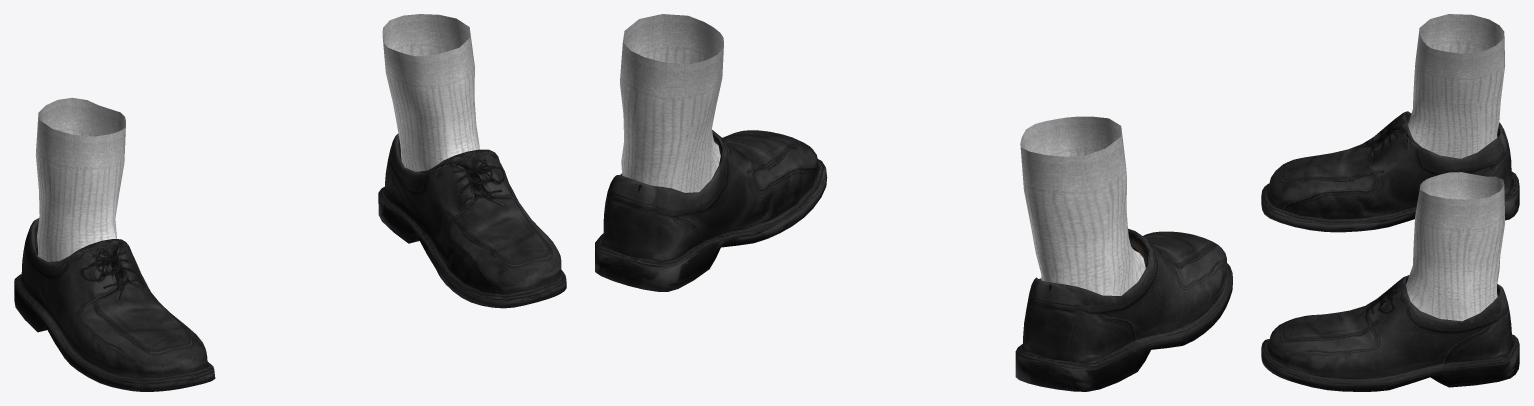
The model's file is leather.glb.
The picture shows the model from 3 angles, left to right: view 1: azimuth 30°, elevation 25°; view 2: azimuth 150°, elevation 25°; view 3: azimuth 270°, elevation 25°; orthographic projection. The views are drawn at different scales.
Parts seen in each view (by area): view 1: leather; view 2: leather; view 3: leather.
Part boxes in pixels (x1=…): leather: x1=14, y1=14, x2=566, y2=391; leather: x1=595, y1=14, x2=1232, y2=391; leather: x1=1261, y1=14, x2=1519, y2=391.
Bounding box in the file's own units: 0.5092 × 0.214 × 0.2705.
Materials: 2 (2 with a texture image).
